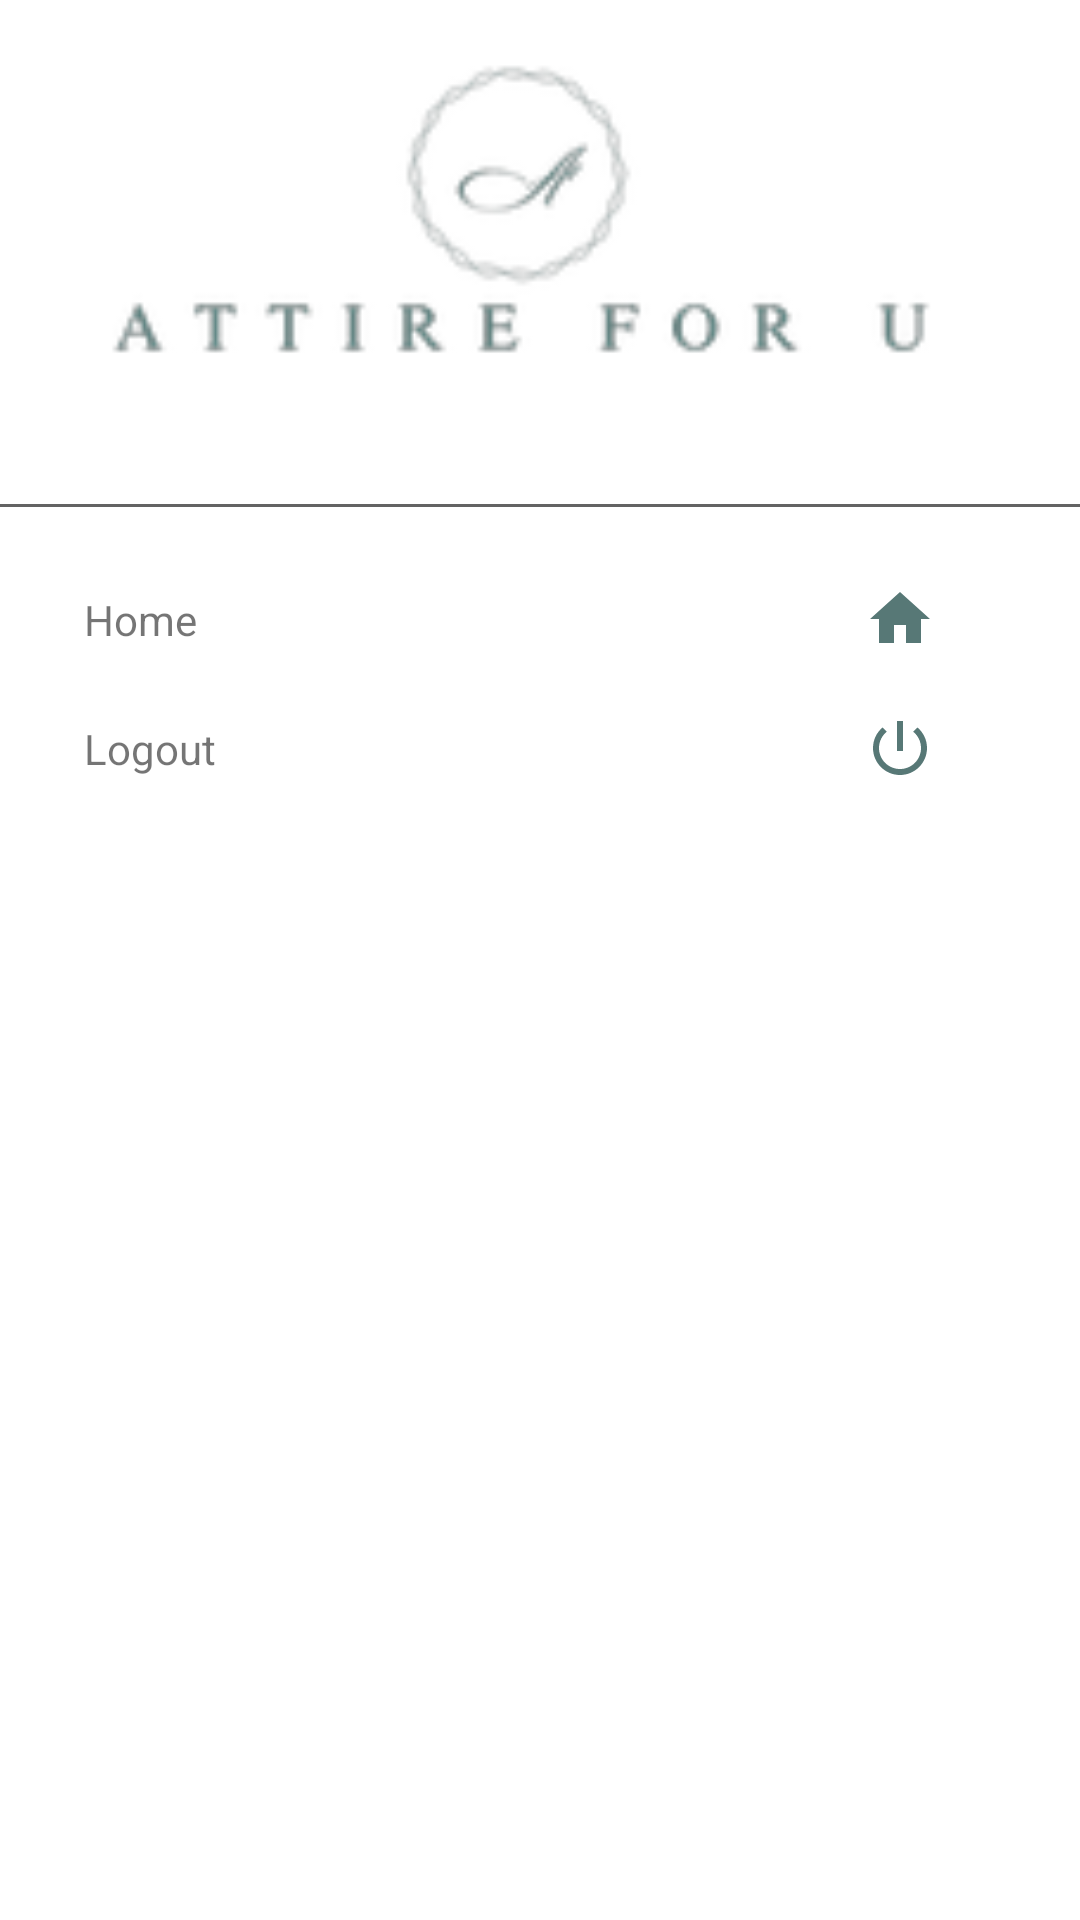

Icons on this 1080px×1920px Android screen, each with its box as (x1, y1, x2, y2):
power settings: (873, 721, 927, 775)
